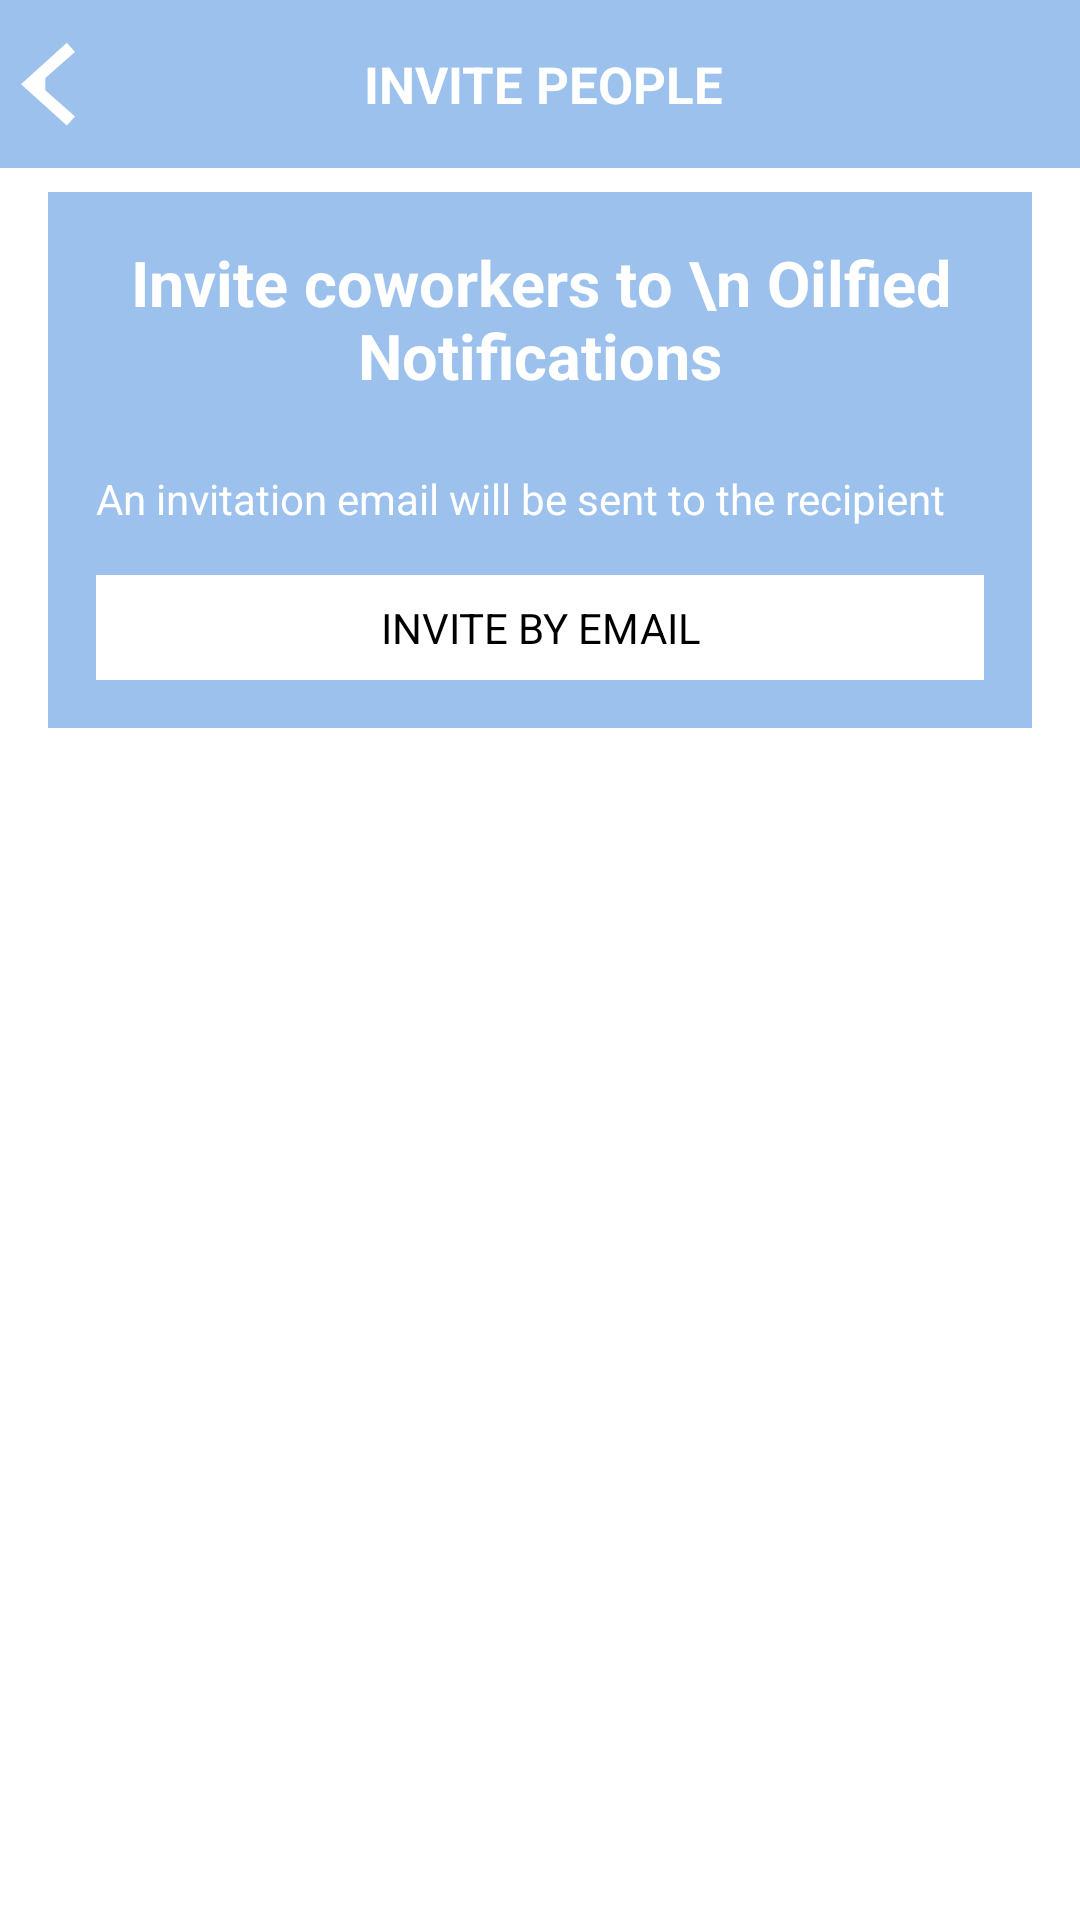

Named icons in this screenshot (1080×1920) and their centers, point (x, y):
back: point (48, 84)
